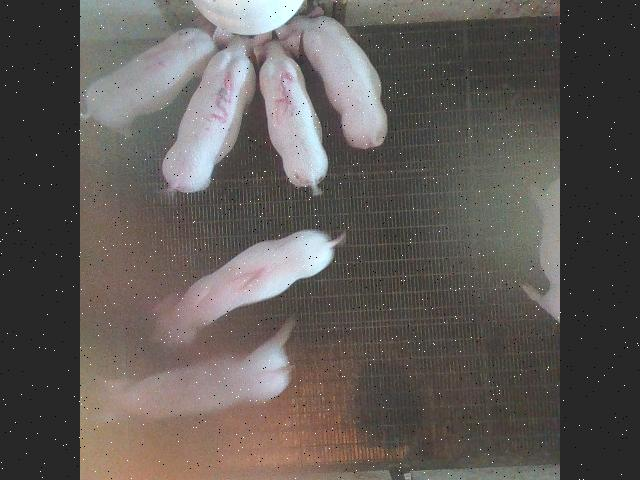pig-1: (156, 229, 344, 342)
pig-3: (163, 26, 271, 191)
pig-4: (85, 28, 216, 132)
pig-5: (259, 31, 328, 194)
